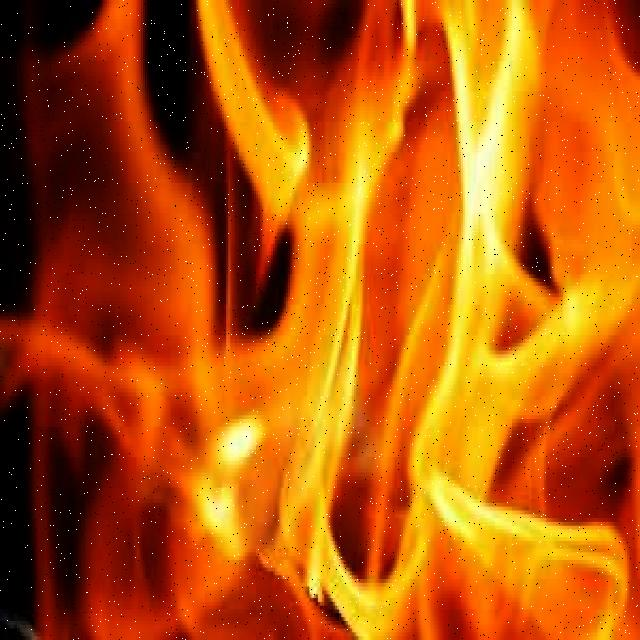fire: (16, 10, 640, 640)
